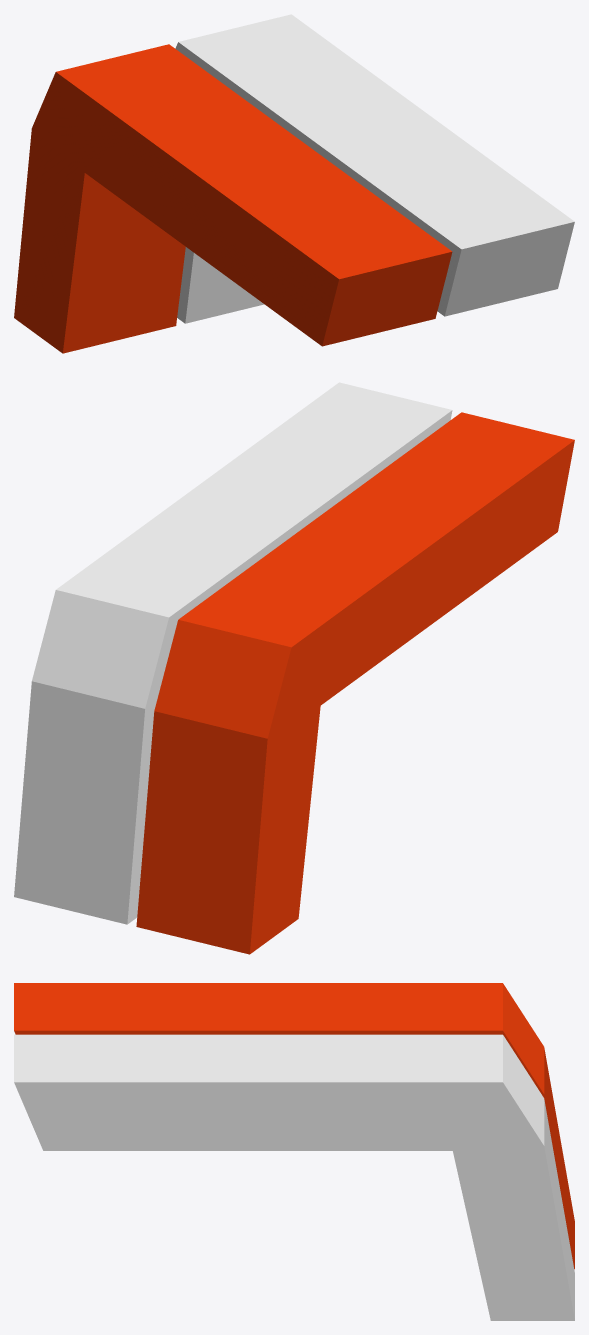
The model's file is Platform_4.FBX.
3 renders of one model, top to bottom at view 1: azimuth 30°, elevation 25°; view 2: azimuth 150°, elevation 25°; view 3: azimuth 270°, elevation 25°, orthographic. The views are drawn at different scales.
Parts seen in each view (by area): view 1: Box004; view 2: Box004; view 3: Box004.
Part boxes in pixels (x1,y1,x2,y2): Box004: (14, 14, 574, 353); Box004: (14, 382, 574, 954); Box004: (14, 983, 574, 1320).
Size of the model in its own units: 51.27 by 57.47 by 122.
